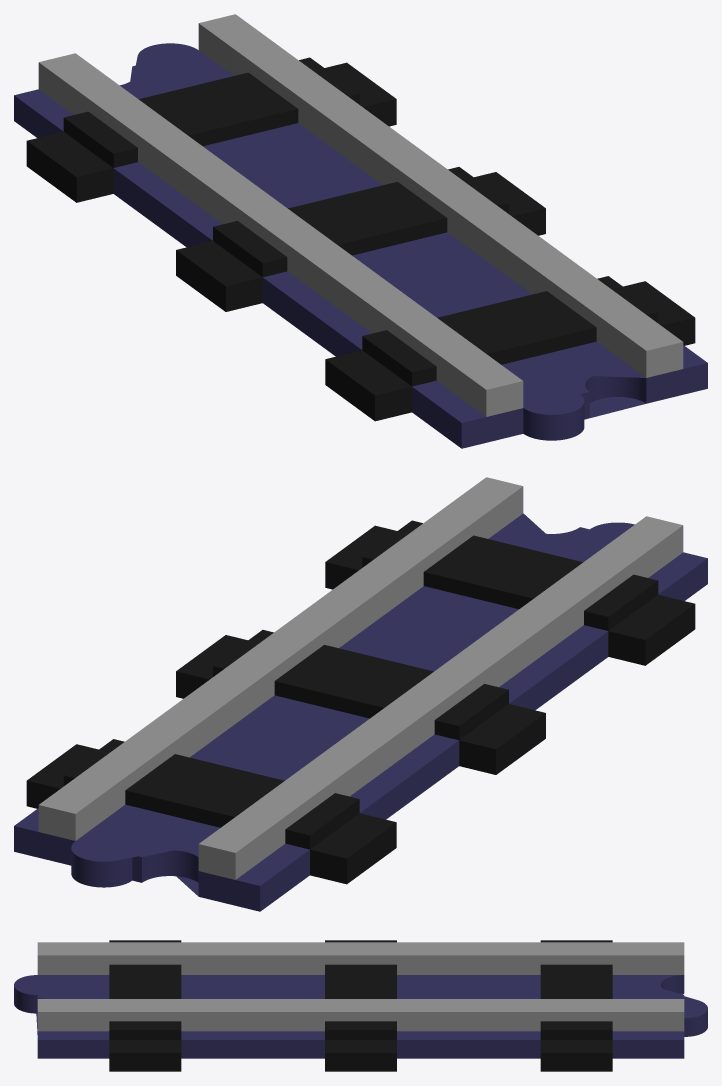
The model's file is StraightRail.fbx.
The picture shows the model from 3 angles, top to bottom: view 1: azimuth 30°, elevation 25°; view 2: azimuth 150°, elevation 25°; view 3: azimuth 270°, elevation 25°; orthographic projection. The views are drawn at different scales.
Parts seen in each view (by area): view 1: Cube.002; view 2: Cube.002; view 3: Cube.002.
Part boxes in pixels (x1,y1,x2,y2): Cube.002: (14, 14, 707, 448); Cube.002: (14, 477, 707, 911); Cube.002: (14, 940, 707, 1071).
Size of the model in its own units: 260 by 40.99 by 676.
